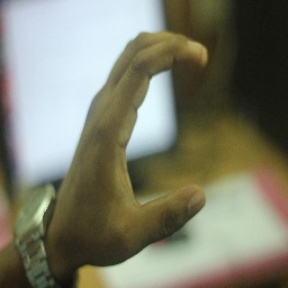C: (69, 28, 217, 247)
